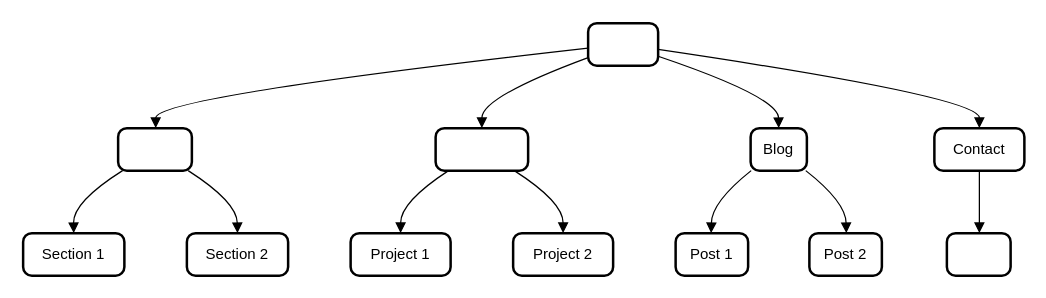
Image size: 1046x298. Some labels were removed from this diagram. Here are the shapes that lost their labels. From the top down, the centre of each, then its label:
(x=622, y=43): Home
(x=154, y=148): About
(x=481, y=148): Projects
(x=978, y=253): Form
